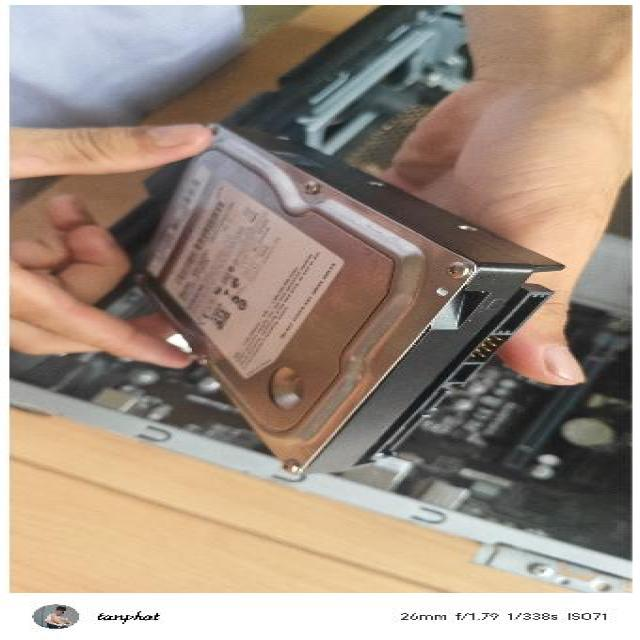DISK: (126, 116, 567, 478)
